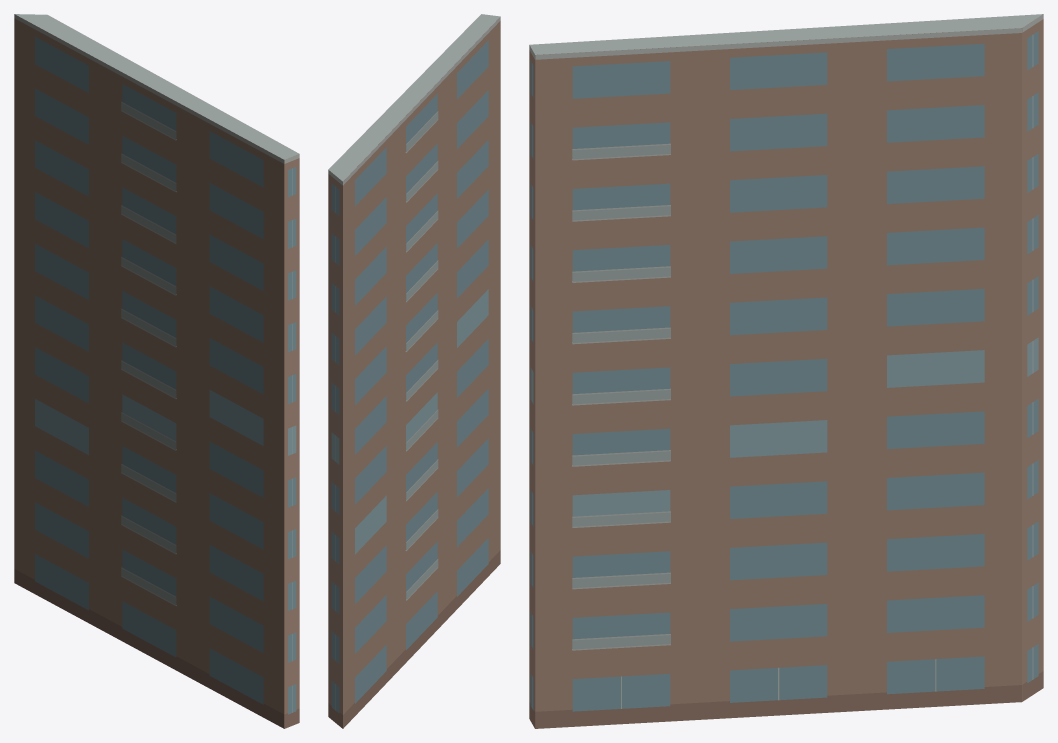
The model's file is survey-upis-32504443.glb.
3 views of the same model, side by side, from view 1: azimuth 30°, elevation 25°; view 2: azimuth 150°, elevation 25°; view 3: azimuth 270°, elevation 25° (orthographic). The views are drawn at different scales.
Visible parts, largest first — view 1: survey-upis-32504443.tmp; view 2: survey-upis-32504443.tmp; view 3: survey-upis-32504443.tmp.
Boxes of the visible parts, box(x1,y1,x2,y2) form: survey-upis-32504443.tmp: box(14, 14, 299, 728); survey-upis-32504443.tmp: box(328, 14, 500, 728); survey-upis-32504443.tmp: box(529, 14, 1043, 728).
Size of the model in its own units: 4.38 by 33.55 by 23.21.
